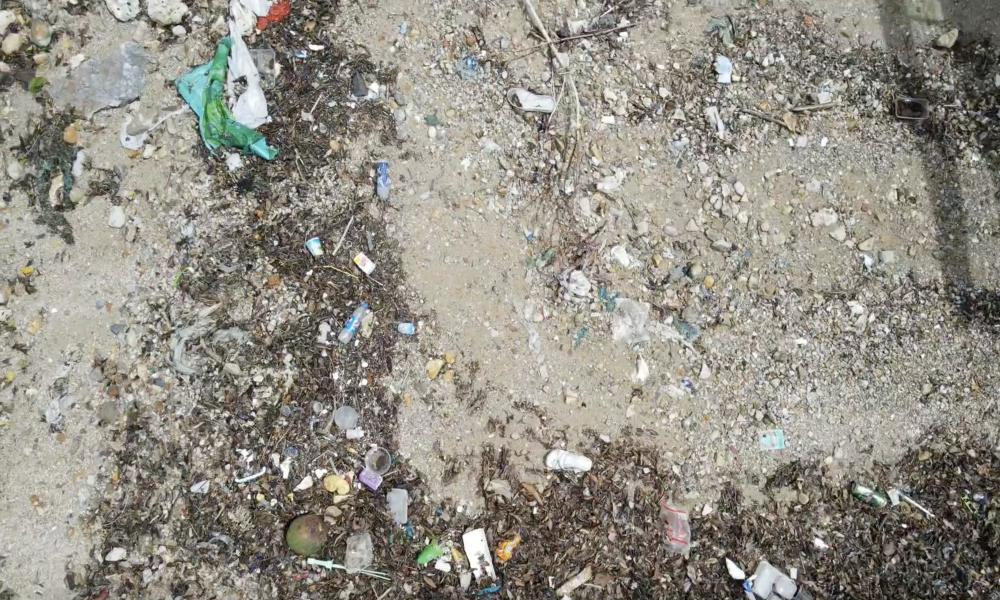plastic bag: (183, 39, 275, 165)
plastic bottle: (340, 298, 368, 346), (375, 158, 390, 203)
